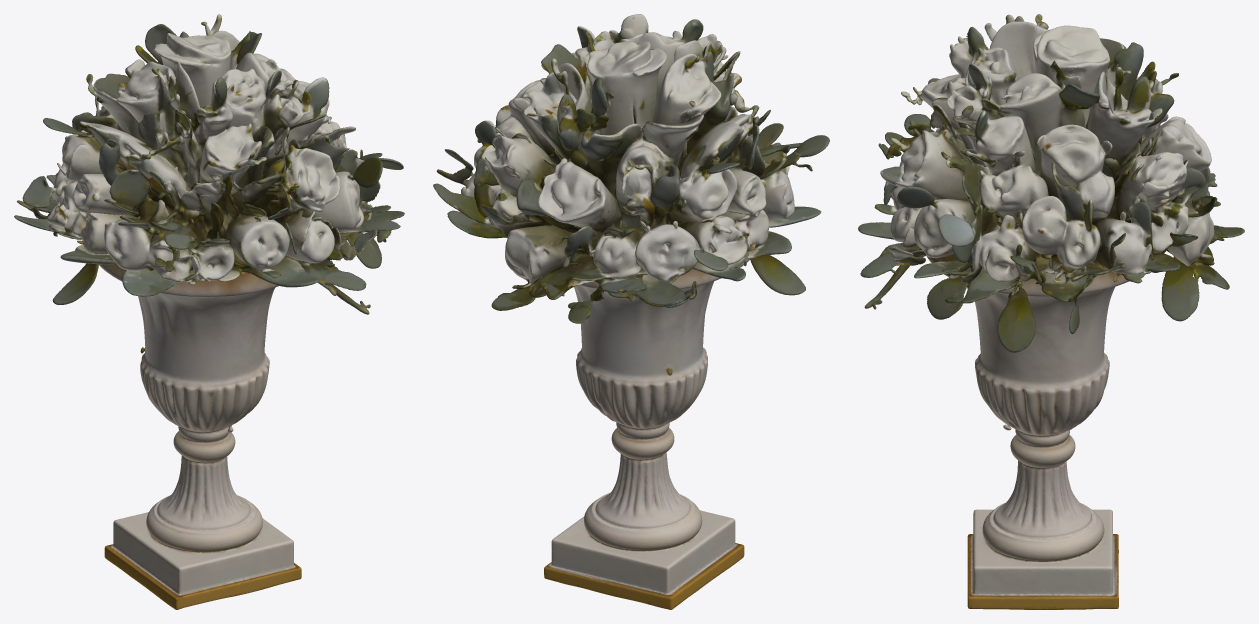
File: marble_urn_vase.glb
The picture shows the model from 3 angles, left to right: view 1: azimuth 30°, elevation 25°; view 2: azimuth 150°, elevation 25°; view 3: azimuth 270°, elevation 25°; orthographic projection. The views are drawn at different scales.
Visible parts, largest first — view 1: tripo_node_08d0d962-3834-467a-8a9b-3a2eef5e081e; view 2: tripo_node_08d0d962-3834-467a-8a9b-3a2eef5e081e; view 3: tripo_node_08d0d962-3834-467a-8a9b-3a2eef5e081e.
Boxes of the visible parts, left/top/right/bottom form: tripo_node_08d0d962-3834-467a-8a9b-3a2eef5e081e: left=14, top=14, right=404, bottom=609; tripo_node_08d0d962-3834-467a-8a9b-3a2eef5e081e: left=433, top=14, right=829, bottom=609; tripo_node_08d0d962-3834-467a-8a9b-3a2eef5e081e: left=858, top=14, right=1244, bottom=609.
Size of the model in its own units: 0.6449 by 1 by 0.6418.
1 material, 1 textured.
